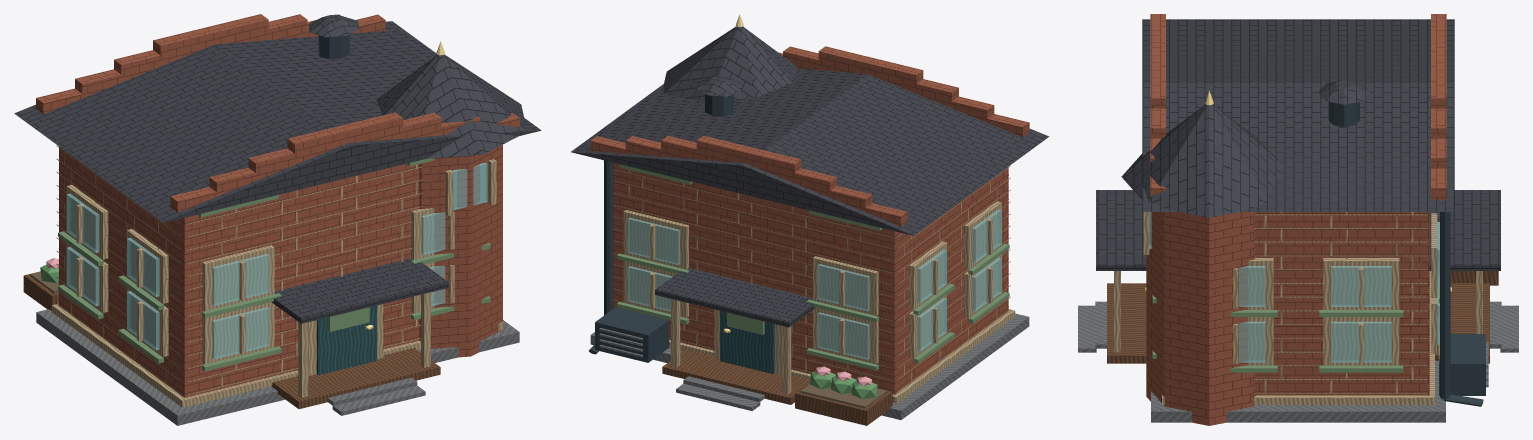
The model's file is house_townhouse_lv4_tower.glb.
The picture shows the model from 3 angles, left to right: view 1: azimuth 30°, elevation 25°; view 2: azimuth 150°, elevation 25°; view 3: azimuth 270°, elevation 25°; orthographic projection. The views are drawn at different scales.
Visible parts, largest first — view 1: gable_roof, walls, tower, tower_roof, front_porch_canopy, foundation, front_deck, front_window_frame.002, front_window_frame, floor_trim, front_door, stepped_gable.002 (+31 smaller); view 2: gable_roof, walls, tower_roof, back_porch_canopy, back_deck, foundation, back_ac_unit, back_window_frame.003, back_window_frame.002, back_window_frame, back_door, stepped_gable.006 (+35 smaller); view 3: gable_roof, walls, tower, tower_roof, foundation, back_porch_canopy, front_porch_canopy, right_window_frame.003, right_window_frame.001, front_deck, right_window_glass.001, right_window_glass.003 (+26 smaller).
Part boxes in pixels (x1,y1,x2,y2): gable_roof: (14,21,541,222); walls: (59,146,419,397); tower: (419,144,502,357); tower_roof: (376,54,524,158); front_porch_canopy: (271,258,448,323); foundation: (36,309,519,425); front_deck: (271,348,440,408); front_window_frame.002: (202,245,274,310); front_window_frame: (202,302,274,364); floor_trim: (51,303,504,407); front_door: (316,305,377,375); stepped_gable.002: (248,112,441,174); gable_roof: (571,68,1049,235); walls: (613,162,1008,394); tower_roof: (663,26,797,101); back_porch_canopy: (655,268,815,327); back_deck: (662,349,810,404); foundation: (590,313,1029,419); back_ac_unit: (595,307,668,362); back_window_frame.003: (623,210,688,269); back_window_frame.002: (813,256,878,315); back_window_frame: (813,307,878,364); back_door: (720,311,774,373); stepped_gable.006: (661,136,836,191); gable_roof: (1142,19,1454,211); walls: (1256,212,1429,395); tower: (1146,212,1255,425); tower_roof: (1121,104,1282,217); foundation: (1151,360,1445,422); back_porch_canopy: (1429,190,1500,270); front_porch_canopy: (1096,190,1146,270); right_window_frame.003: (1323,258,1399,309); right_window_frame.001: (1323,317,1399,365); front_deck: (1107,283,1146,363); right_window_glass.001: (1331,321,1391,362); right_window_glass.003: (1331,266,1391,306).
Size of the model in its own units: 6.6 by 4.75 by 6.19.
13 materials, 7 textured.
